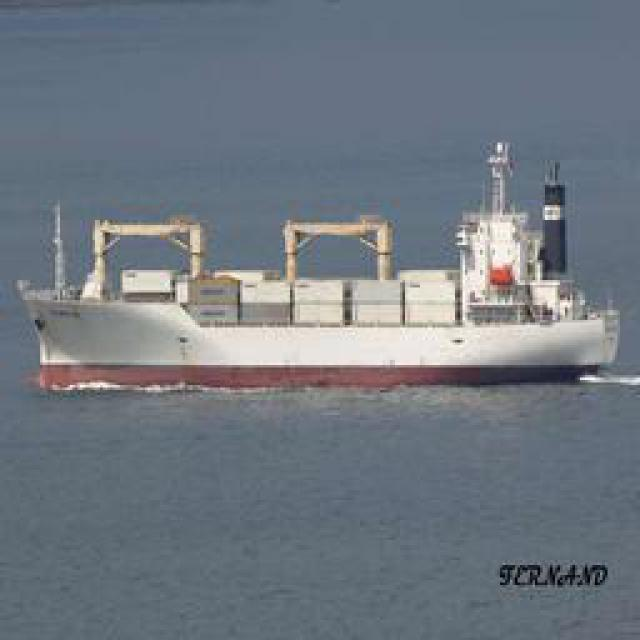Ship: (11, 212, 626, 395)
